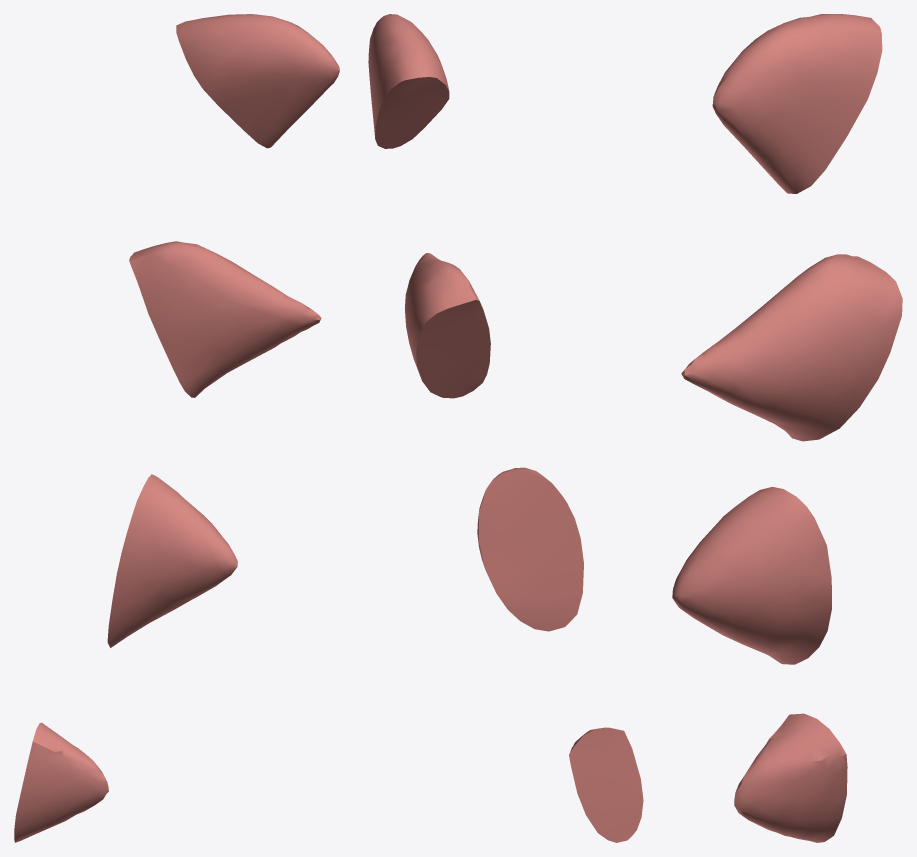
File: fma48731-f_mm4012.glb
3 renders of one model, left to right at view 1: azimuth 30°, elevation 25°; view 2: azimuth 150°, elevation 25°; view 3: azimuth 270°, elevation 25°, orthographic. The views are drawn at different scales.
Parts seen in each view (by area): view 1: FMA48731-F_MM4012; view 2: FMA48731-F_MM4012; view 3: FMA48731-F_MM4012.
Boxes of the visible parts, x1,y1,x2,y2 form: FMA48731-F_MM4012: (14, 14, 339, 842); FMA48731-F_MM4012: (368, 14, 643, 842); FMA48731-F_MM4012: (672, 14, 902, 842).
Bounding box in the file's own units: 0.0374 × 0.093 × 0.0203.
